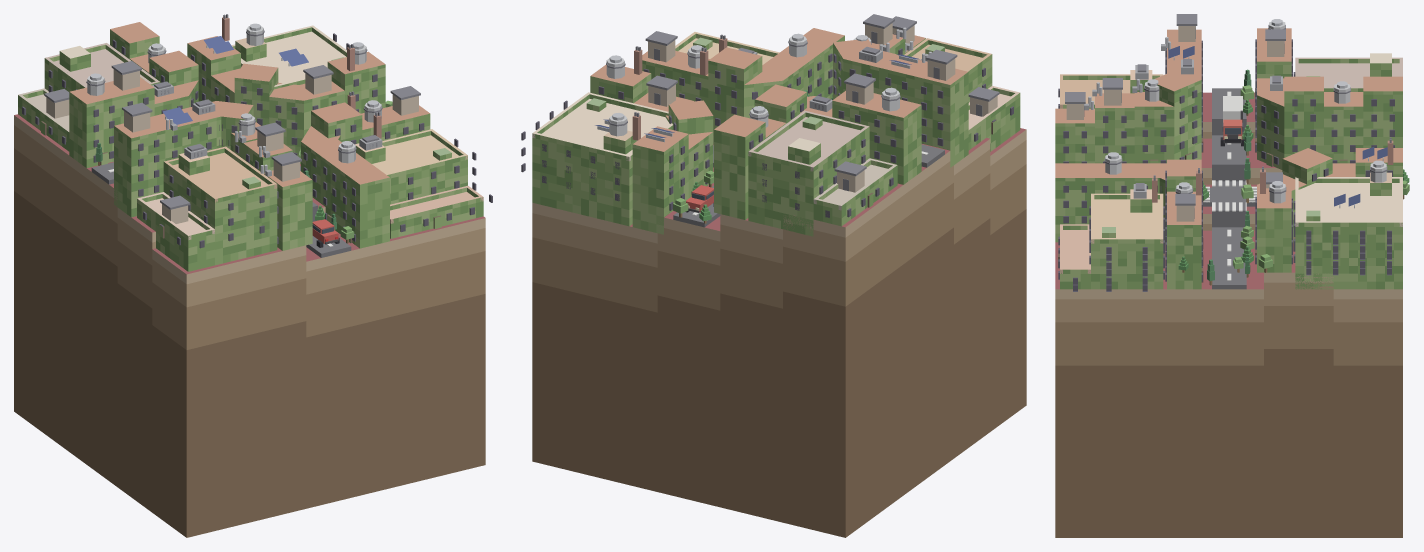
File: block_17_greenfacade_65.glb
3 renders of one model, left to right at view 1: azimuth 30°, elevation 25°; view 2: azimuth 150°, elevation 25°; view 3: azimuth 270°, elevation 25°, orthographic. The views are drawn at different scales.
Parts seen in each view (by area): view 1: Patch_MidRight_b15_GF, Cerda_MidRight_b15_GF, Insets_MidRight_b15_GF, CerdaRoofProps_MidRight_b15_GF, Roads_MidRight_b15_GF, Asset_Car.036_GF; view 2: Patch_MidRight_b15_GF, Cerda_MidRight_b15_GF, Insets_MidRight_b15_GF, CerdaRoofProps_MidRight_b15_GF, Roads_MidRight_b15_GF; view 3: Patch_MidRight_b15_GF, Cerda_MidRight_b15_GF, Insets_MidRight_b15_GF, CerdaRoofProps_MidRight_b15_GF, Roads_MidRight_b15_GF, Asset_Truck.009_GF, Zebra_MidRight_b15_GF.
Part boxes in pixels (left/top/right/bottom): Patch_MidRight_b15_GF: left=14, top=114, right=485, bottom=537; Cerda_MidRight_b15_GF: left=69, top=22, right=430, bottom=250; Insets_MidRight_b15_GF: left=18, top=25, right=492, bottom=271; CerdaRoofProps_MidRight_b15_GF: left=44, top=14, right=420, bottom=223; Roads_MidRight_b15_GF: left=91, top=162, right=351, bottom=257; Asset_Car.036_GF: left=312, top=219, right=339, bottom=247; Patch_MidRight_b15_GF: left=532, top=128, right=1026, bottom=537; Cerda_MidRight_b15_GF: left=590, top=28, right=968, bottom=234; Insets_MidRight_b15_GF: left=521, top=32, right=1020, bottom=236; CerdaRoofProps_MidRight_b15_GF: left=595, top=14, right=999, bottom=192; Roads_MidRight_b15_GF: left=673, top=144, right=944, bottom=227; Patch_MidRight_b15_GF: left=1055, top=92, right=1402, bottom=537; Cerda_MidRight_b15_GF: left=1055, top=28, right=1402, bottom=289; Insets_MidRight_b15_GF: left=1058, top=53, right=1402, bottom=291; CerdaRoofProps_MidRight_b15_GF: left=1065, top=14, right=1393, bottom=221; Roads_MidRight_b15_GF: left=1203, top=88, right=1256, bottom=289; Asset_Truck.009_GF: left=1220, top=96, right=1244, bottom=146; Zebra_MidRight_b15_GF: left=1203, top=180, right=1256, bottom=211.
Size of the model in its own units: 10 by 11.5 by 9.68.
